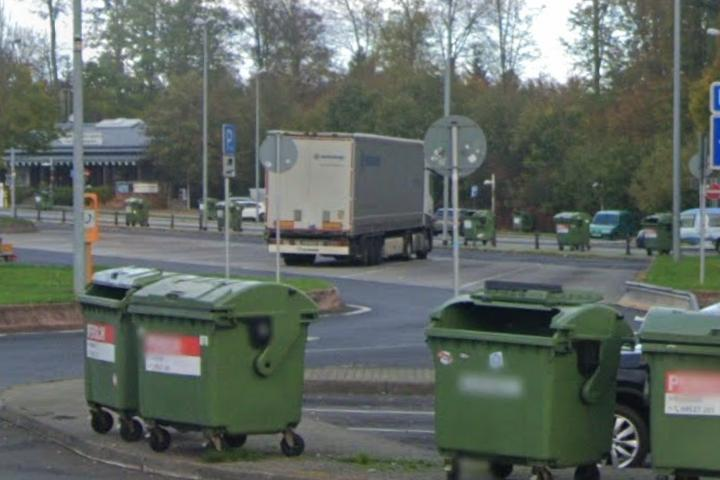traffic_sign: (706, 180, 720, 201)
vehicle: (258, 127, 444, 268)
